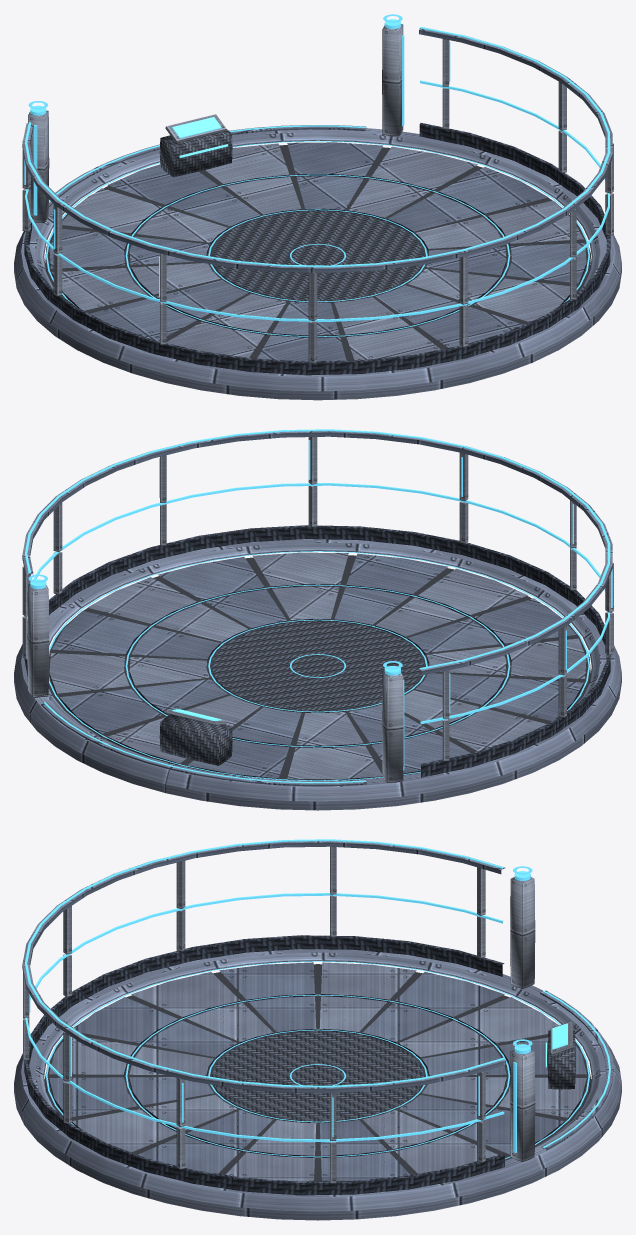
3 renders of one model, top to bottom at view 1: azimuth 30°, elevation 25°; view 2: azimuth 150°, elevation 25°; view 3: azimuth 270°, elevation 25°, orthographic.
Visible parts, largest first — view 1: EnvironmentRoot; view 2: EnvironmentRoot; view 3: EnvironmentRoot.
Part boxes in pixels (<box>): EnvironmentRoot: <box>14,14,621,400</box>; EnvironmentRoot: <box>14,429,621,810</box>; EnvironmentRoot: <box>14,839,621,1220</box>.
Size of the model in its own units: 5.04 by 1.66 by 5.04.
6 materials, 2 textured.
